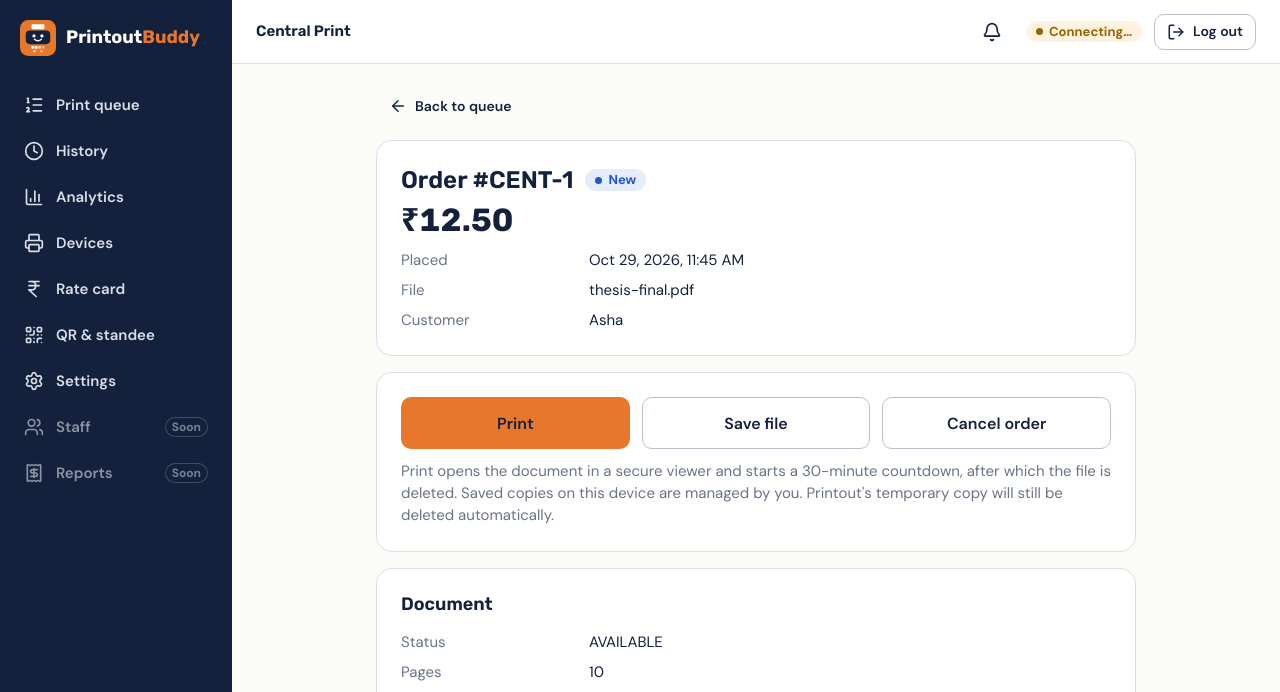
Test: order detail › handles DOCUMENT_UNAVAILABLE from Print with a readable banner
Click the button "Print". click: x=515, y=423
box: [401,397,630,449]
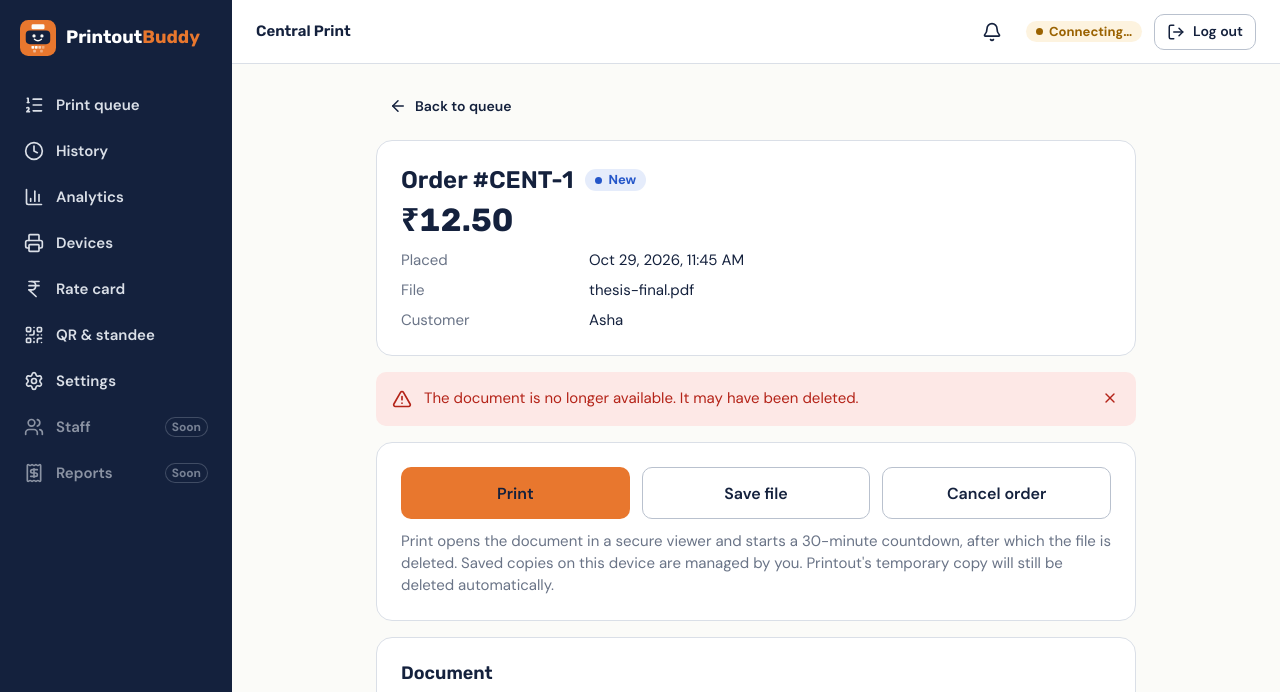
Expected: the message "The document is no longer available. It may have been deleted." is shown, [376,372,1136,426]
